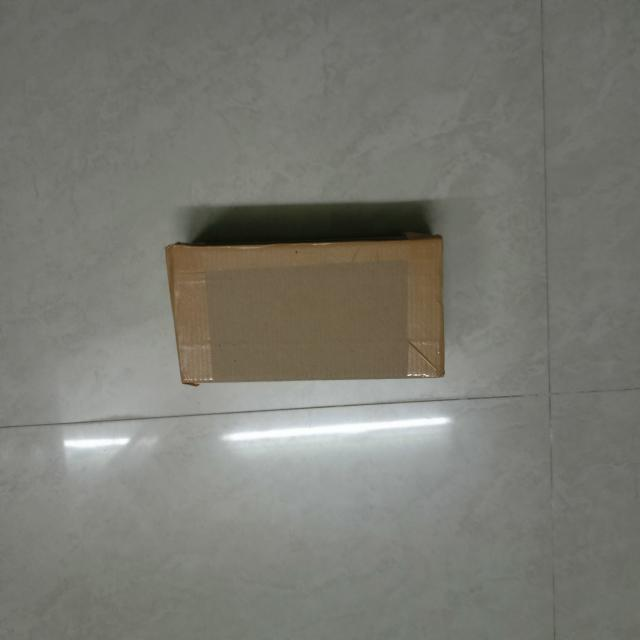box: (169, 240, 446, 380)
